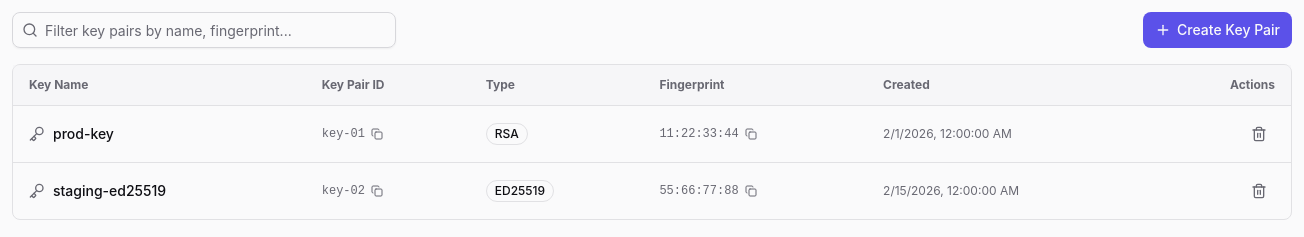
Scenario: KeyPairListView › filters key pairs by name
The width and height of the screenshot is (1304, 237).
Type "staging" into the field with placeholder "Filter key pairs by name, fingerprint...".
click(204, 30); type("staging")  # box top-left (12, 12), bottom-right (396, 48)
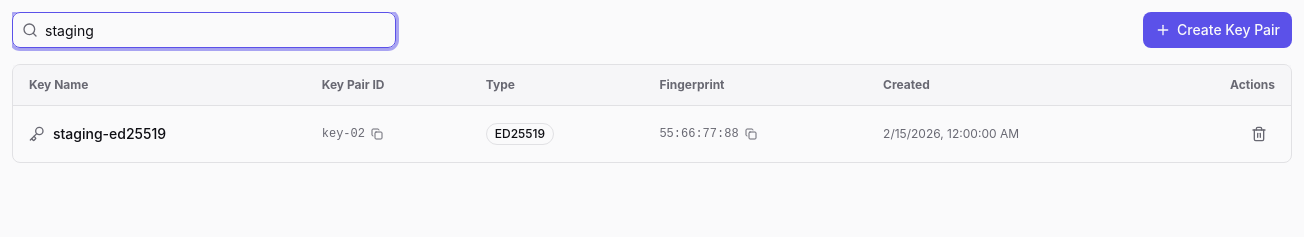
Expected: the text "staging-ed25519" is shown, top-left (53, 124), bottom-right (166, 144)
Now the text "prod-key" is gone
